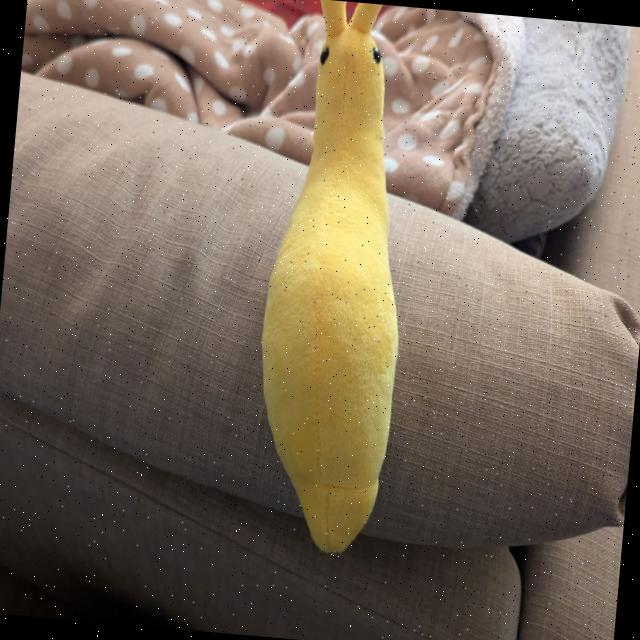banana-slug-toy: (237, 0, 434, 568)
